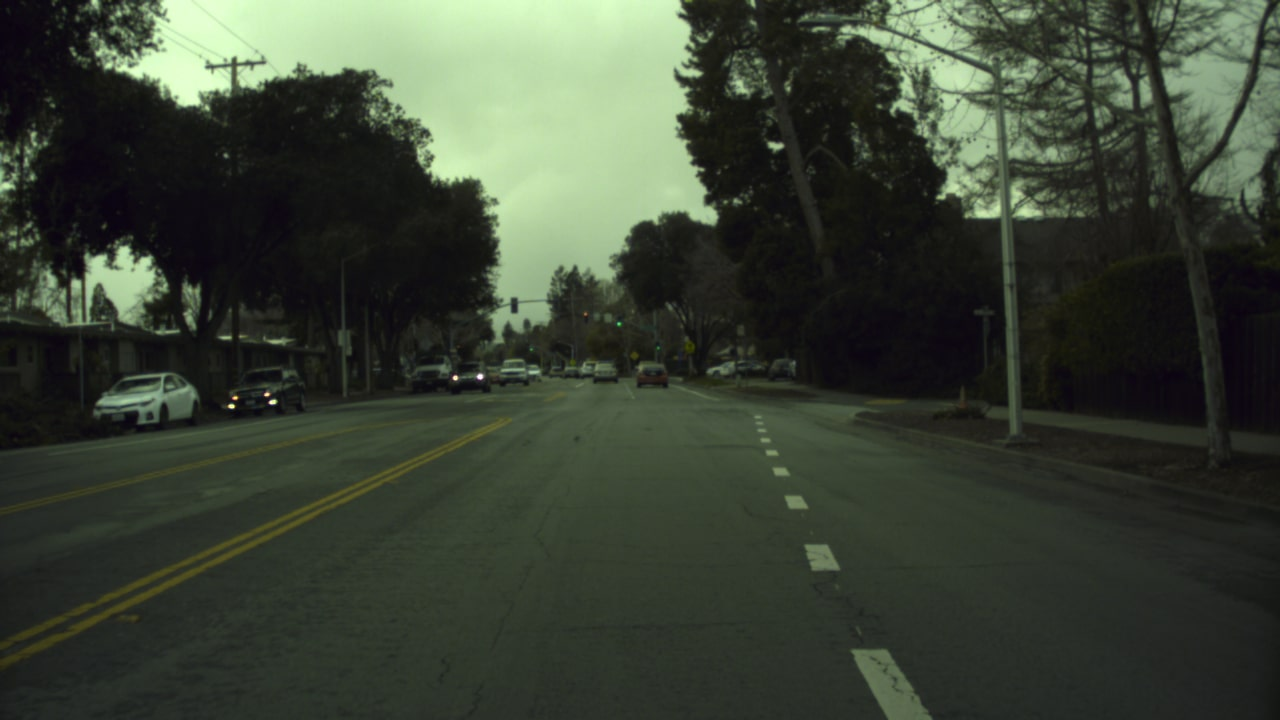signal: (578, 305, 589, 324), (615, 318, 624, 333)
